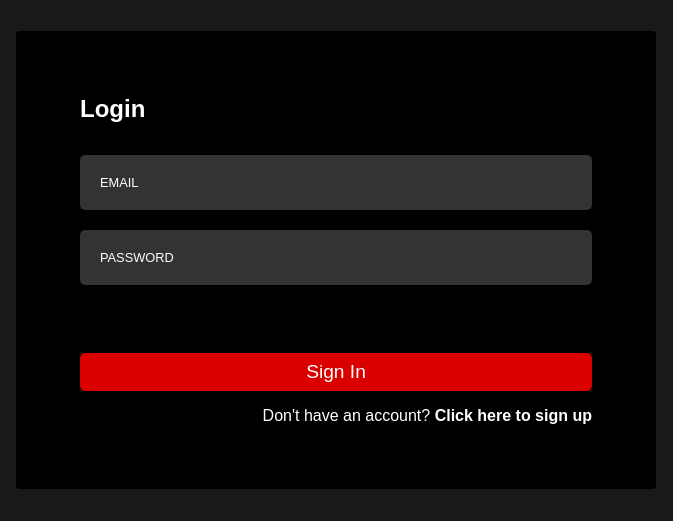
Test case: Login › should not submit the form if it is not fill out
The image size is (673, 521).
Click the button "sign in" at (336, 372), box [80,353,592,391]
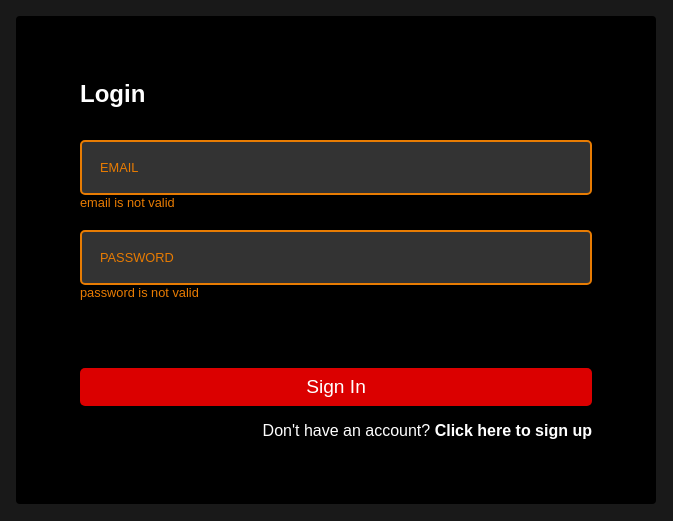
Expected: the text "email is not valid" is shown, [80,195,175,210]
Expected: the text "password is not valid" is shown, [80,285,199,300]
